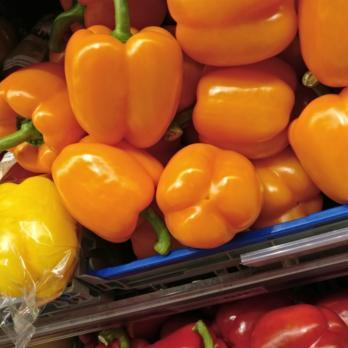Capsicum: (0, 0, 348, 203), (89, 200, 268, 254), (0, 204, 85, 307), (159, 304, 348, 348)
